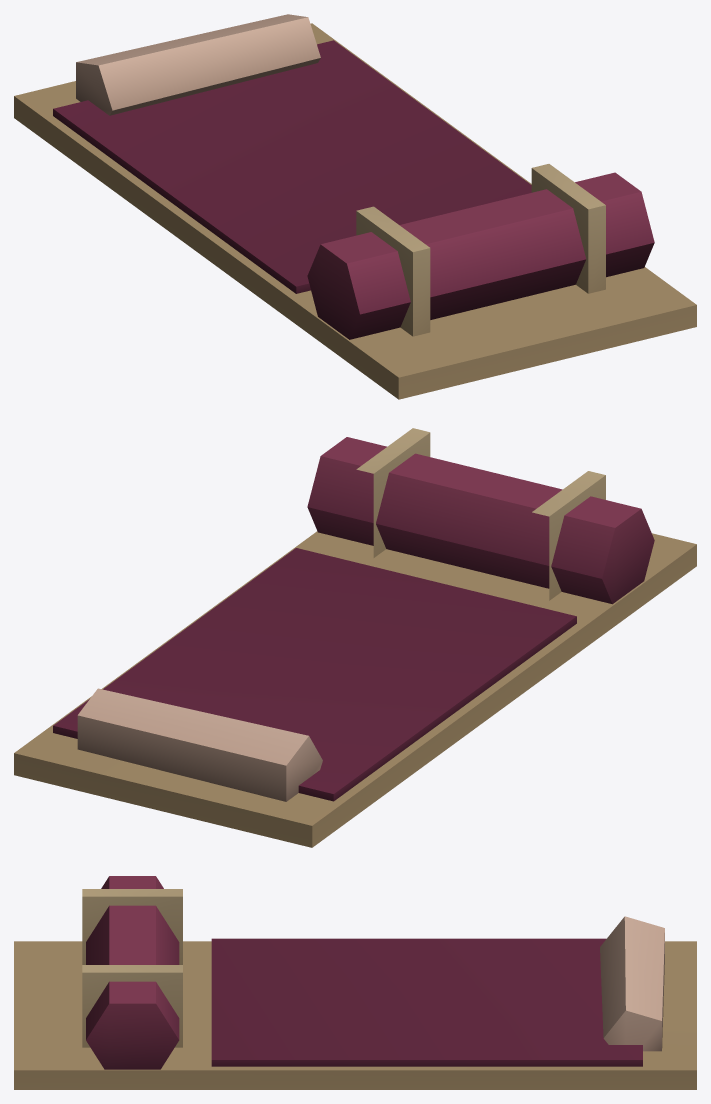
The model's file is ruins-bedroll-low.glb.
3 renders of one model, top to bottom at view 1: azimuth 30°, elevation 25°; view 2: azimuth 150°, elevation 25°; view 3: azimuth 270°, elevation 25°, orthographic. The views are drawn at different scales.
Parts seen in each view (by area): view 1: 0_ruins_bedroll; view 2: 0_ruins_bedroll; view 3: 0_ruins_bedroll.
Part boxes in pixels (x1,y1,x2,y2): 0_ruins_bedroll: (14,14,696,399); 0_ruins_bedroll: (14,428,696,847); 0_ruins_bedroll: (14,876,696,1089).
Bounding box in the file's own units: 0.85 × 0.29 × 1.9.
